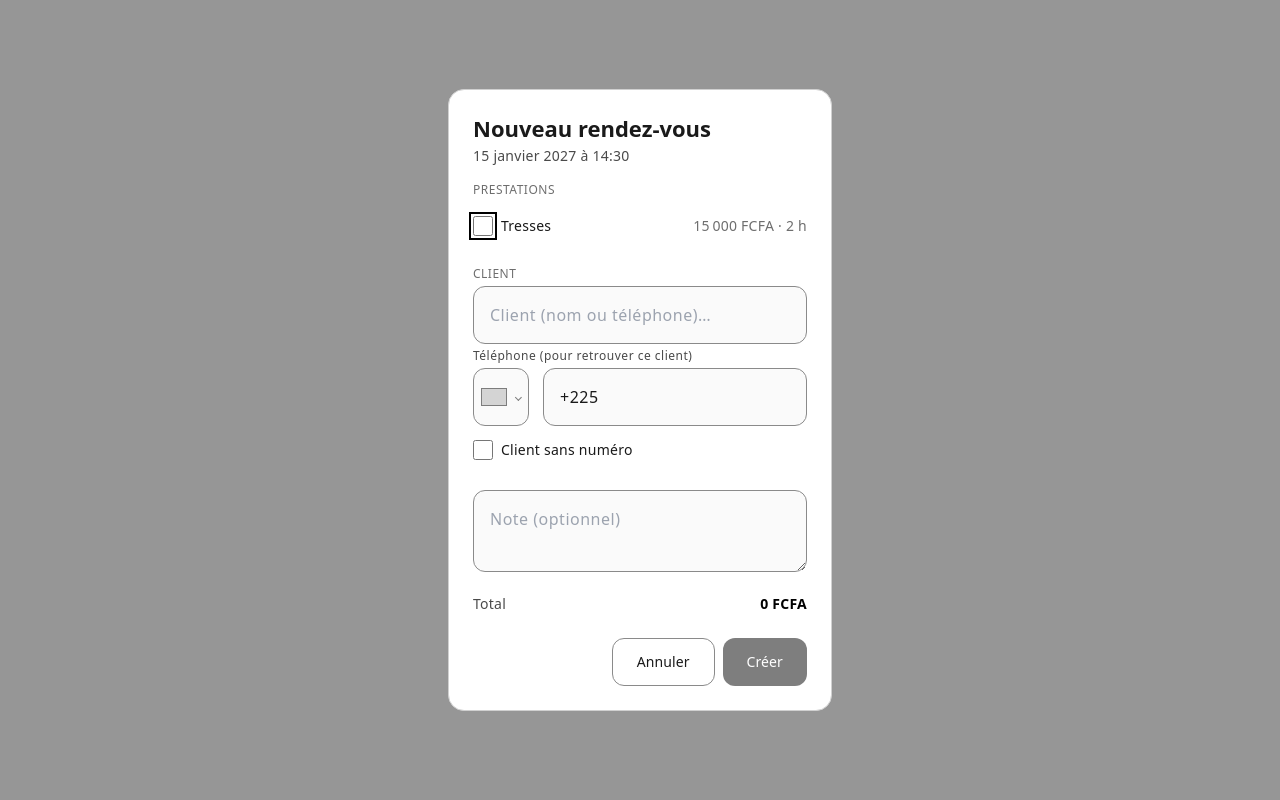
Scenario: ManualBookingDialog — the walk-in, like the app › a client picked from the search: no box, no number field
In the field named "Rechercher ou nommer le client": (640, 315) 473,286 -> 807,344, type "Ko"
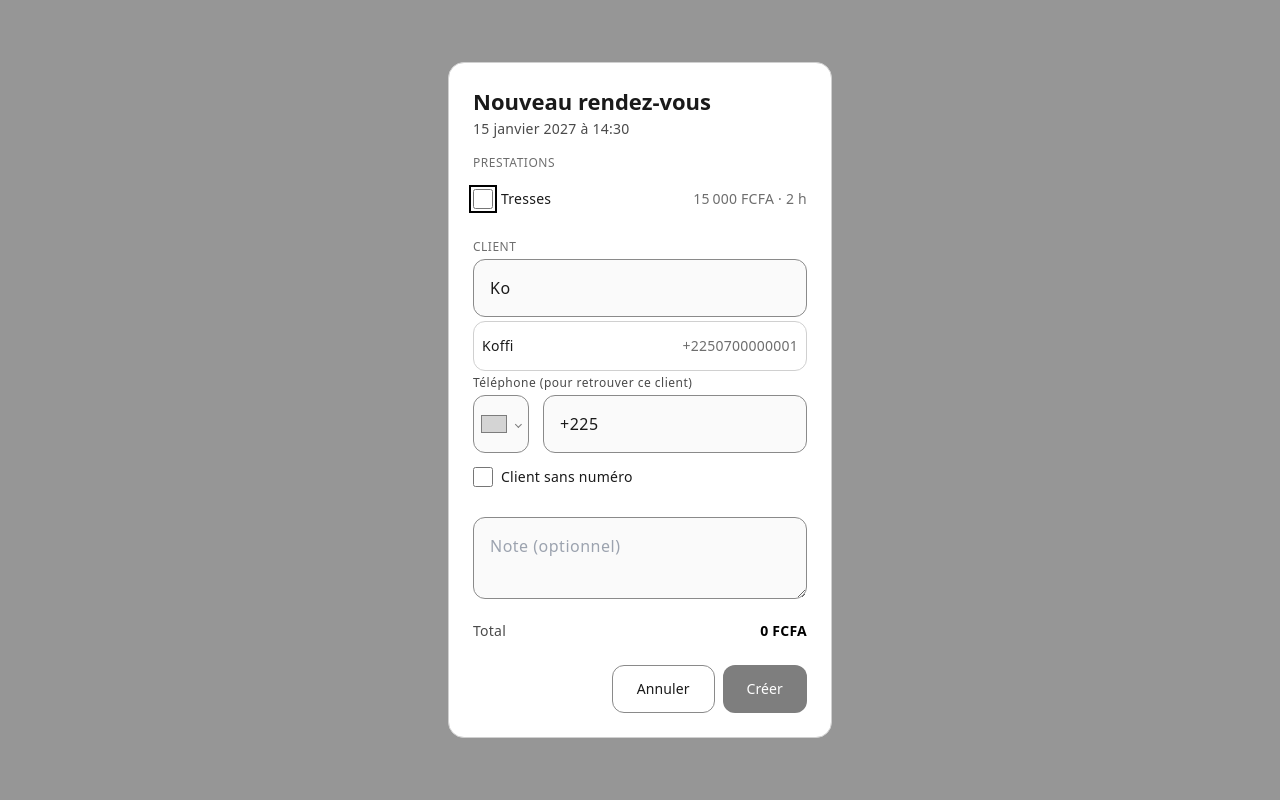
Click the button "Koffi +2250700000001": click(498, 346) 474,322 -> 806,370
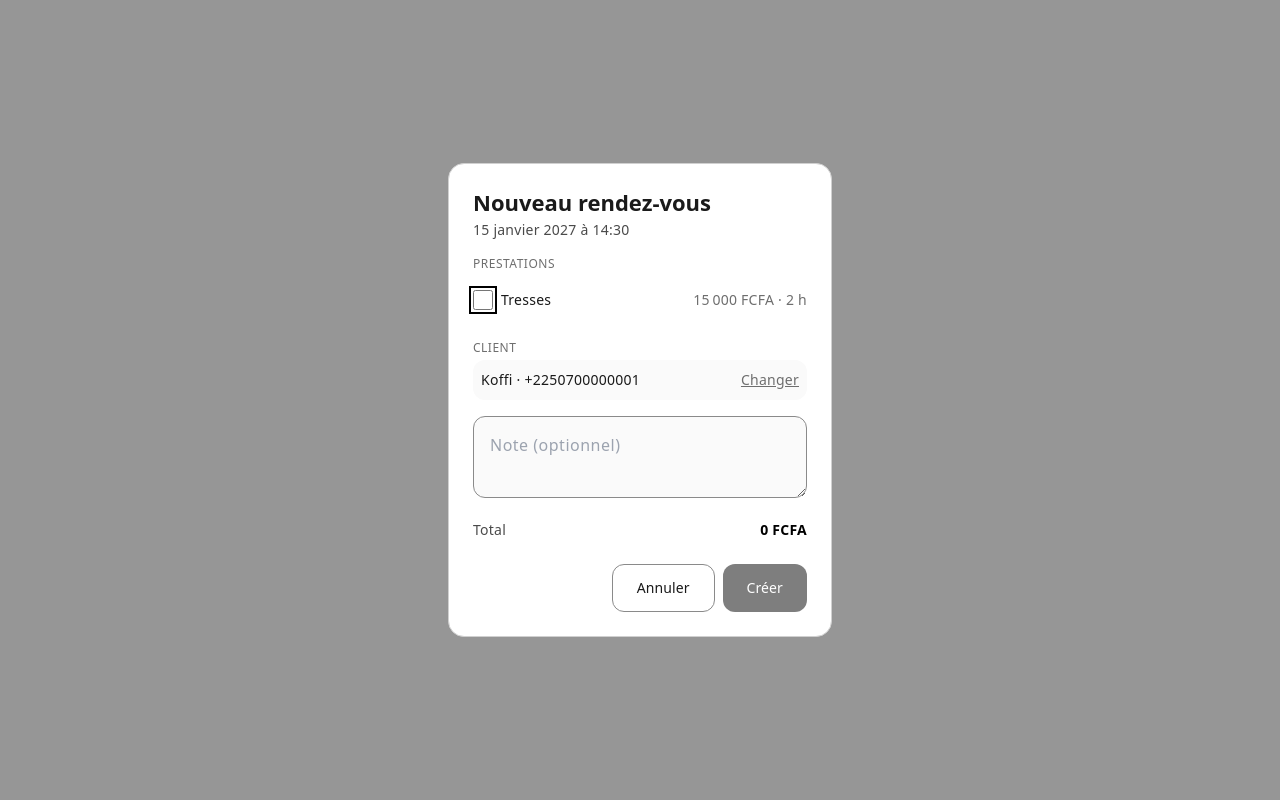
expect the text "Client sans numéro" is gone: met
expect the label labelled "Téléphone (pour retrouver ce client)" is gone: met
